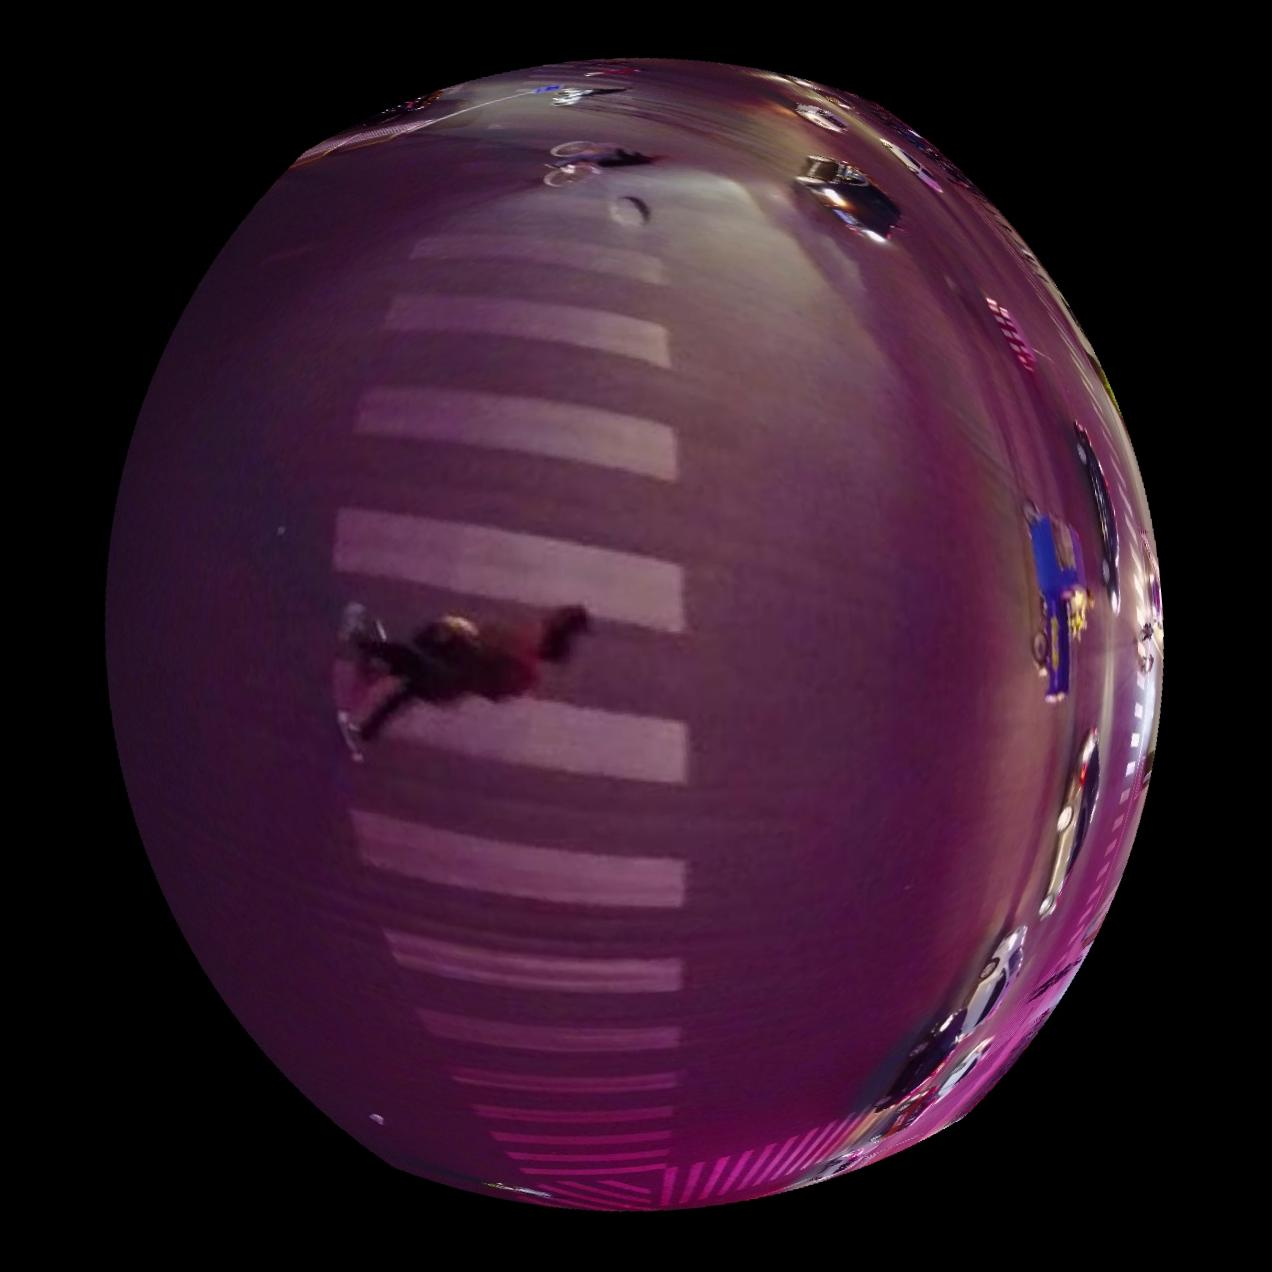cars: (1024, 502, 1093, 702), (1039, 728, 1101, 918), (1074, 422, 1122, 614), (797, 154, 900, 240), (874, 1015, 961, 1114), (960, 927, 1025, 1039), (939, 1039, 994, 1098), (884, 1090, 938, 1138)
